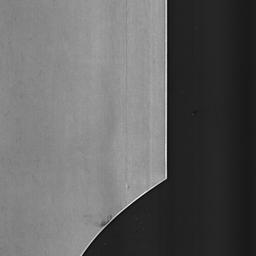Crescent gap: (84, 180, 166, 256)
